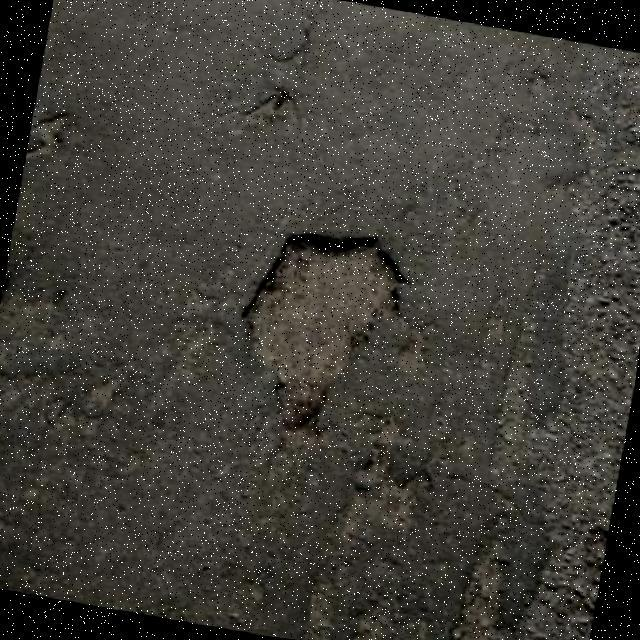Pothole: (241, 234, 405, 430)
